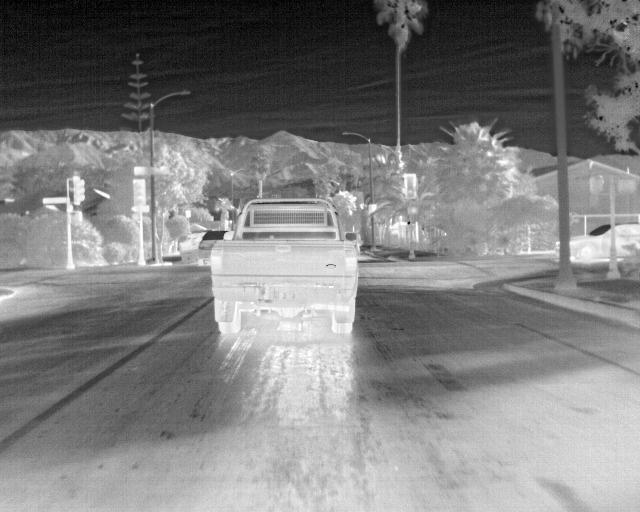car: (212, 196, 359, 336), (570, 223, 609, 260), (195, 229, 224, 264), (617, 223, 638, 258)
